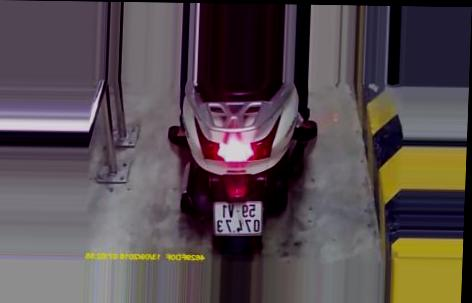License_Plate: (209, 196, 270, 242)
